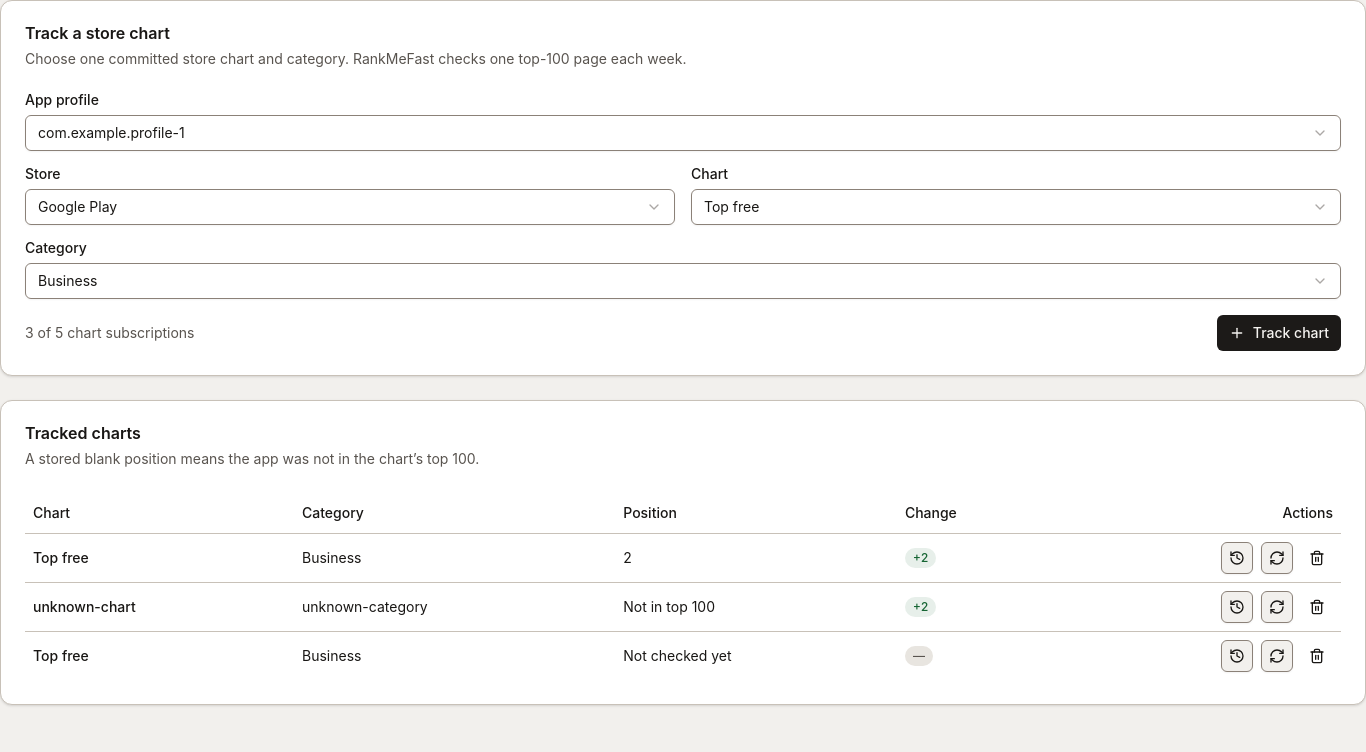
it: App chart tracking panel › previews, confirms, deletes, and closes URL-backed chart actions
Click the 1st button named "Check chart now".
click(1277, 558)  # box top-left (1261, 542), bottom-right (1293, 574)
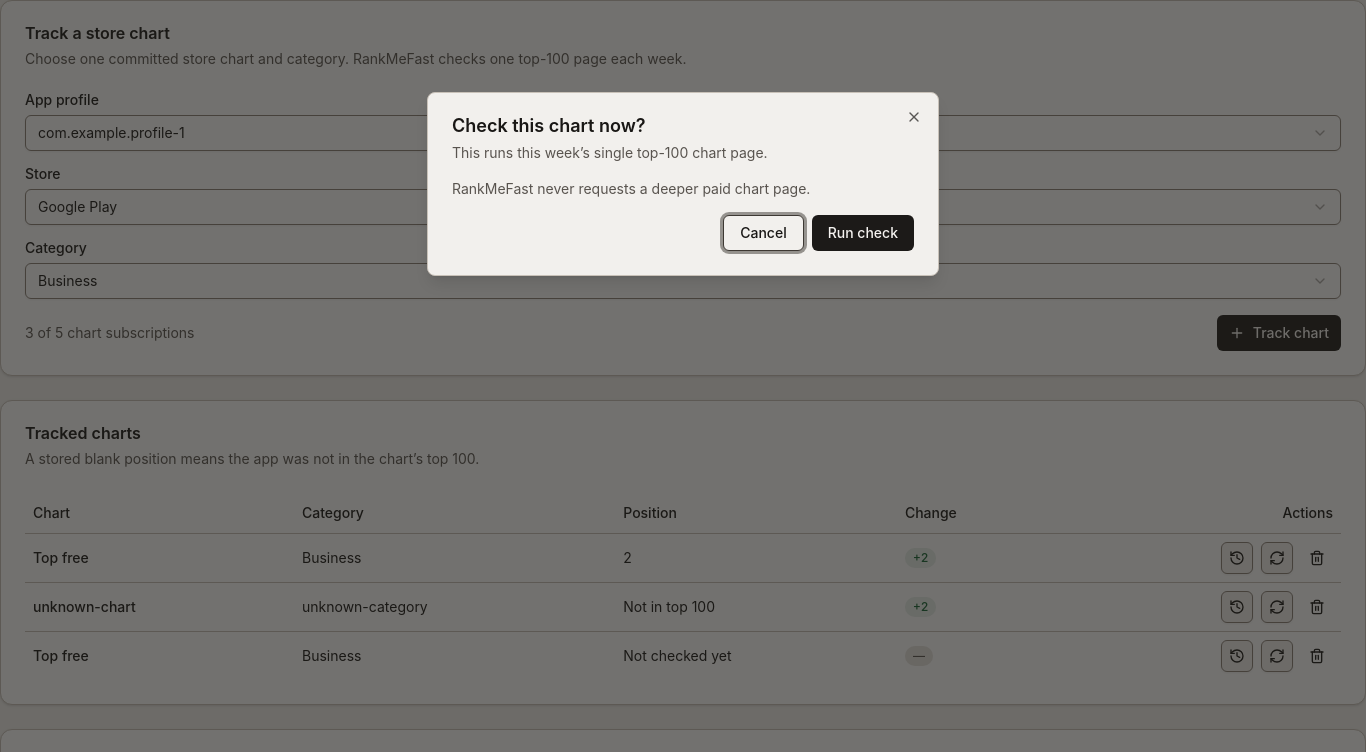
Expected: the heading "Check this chart now?" is shown, top-left (452, 115), bottom-right (646, 136)
Click the button "Run check".
click(863, 233)  # box top-left (812, 215), bottom-right (914, 251)
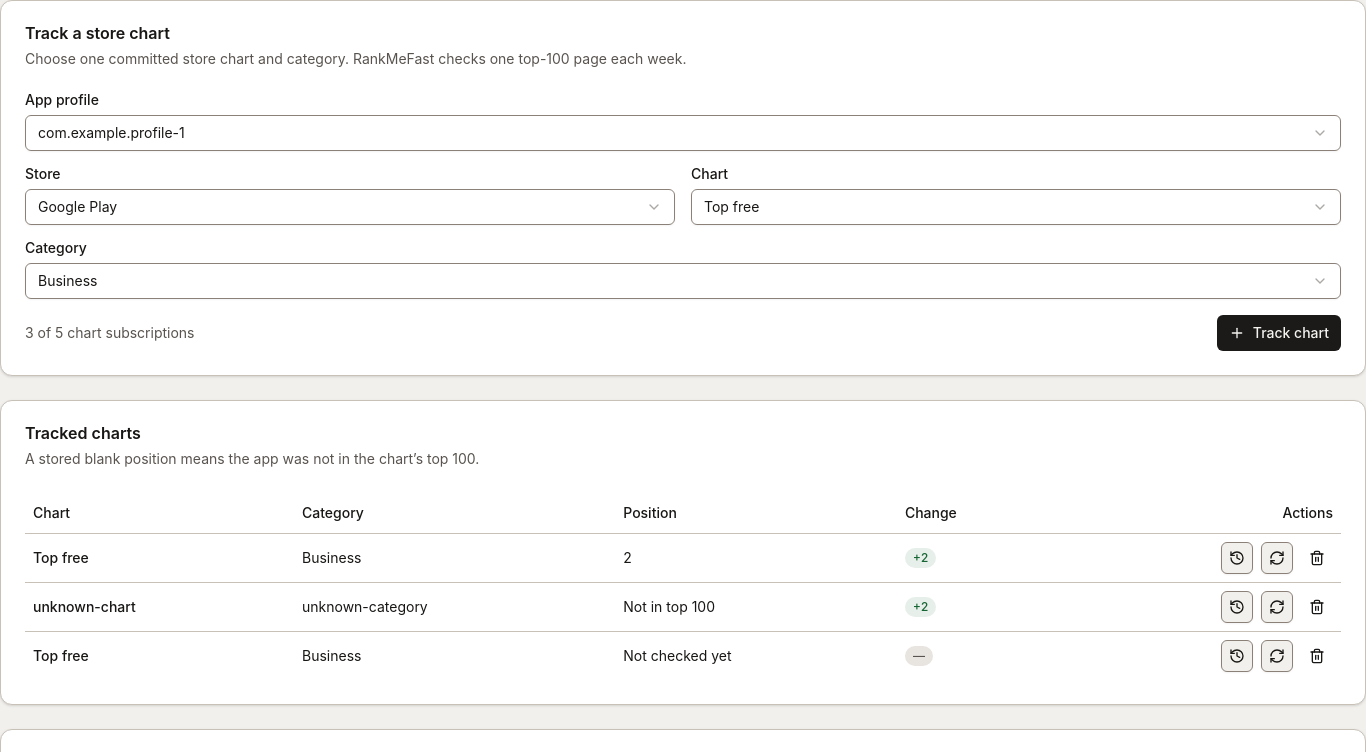
Expected: the heading "Check this chart now?" is gone
Click the 1st button named "Delete chart subscription".
click(1317, 558)  # box top-left (1301, 542), bottom-right (1333, 574)
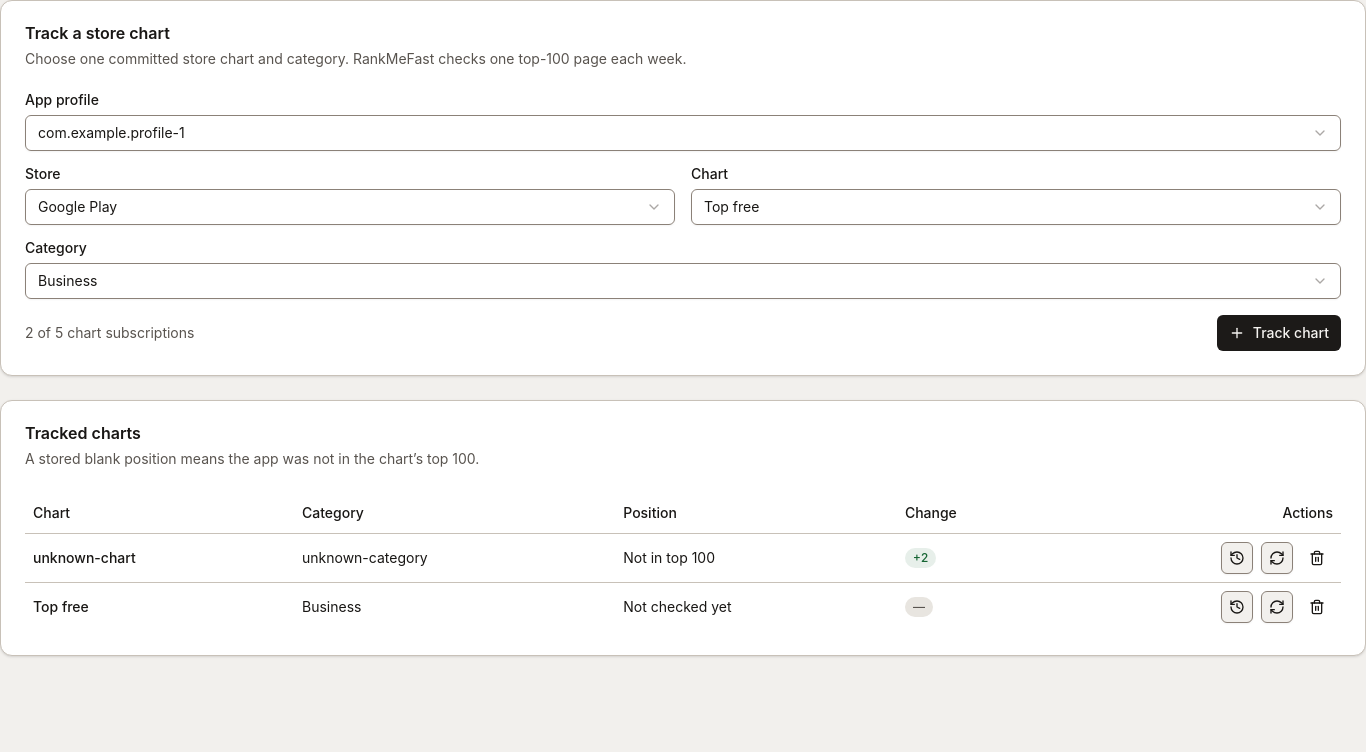
Click the button named "Check chart now" in the row of "unknown-chart".
click(1277, 558)  # box top-left (1261, 542), bottom-right (1293, 574)
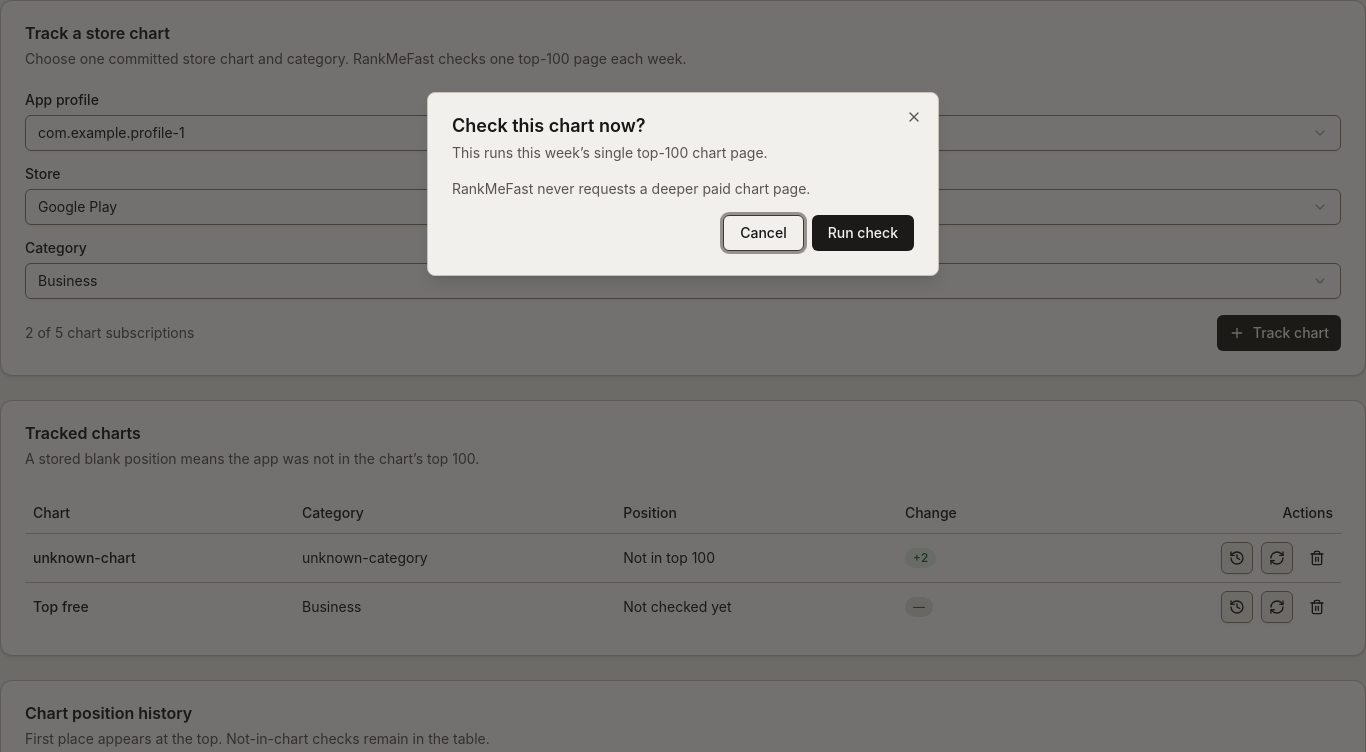
Expected: the heading "Check this chart now?" is shown, top-left (452, 115), bottom-right (646, 136)
Press Escape
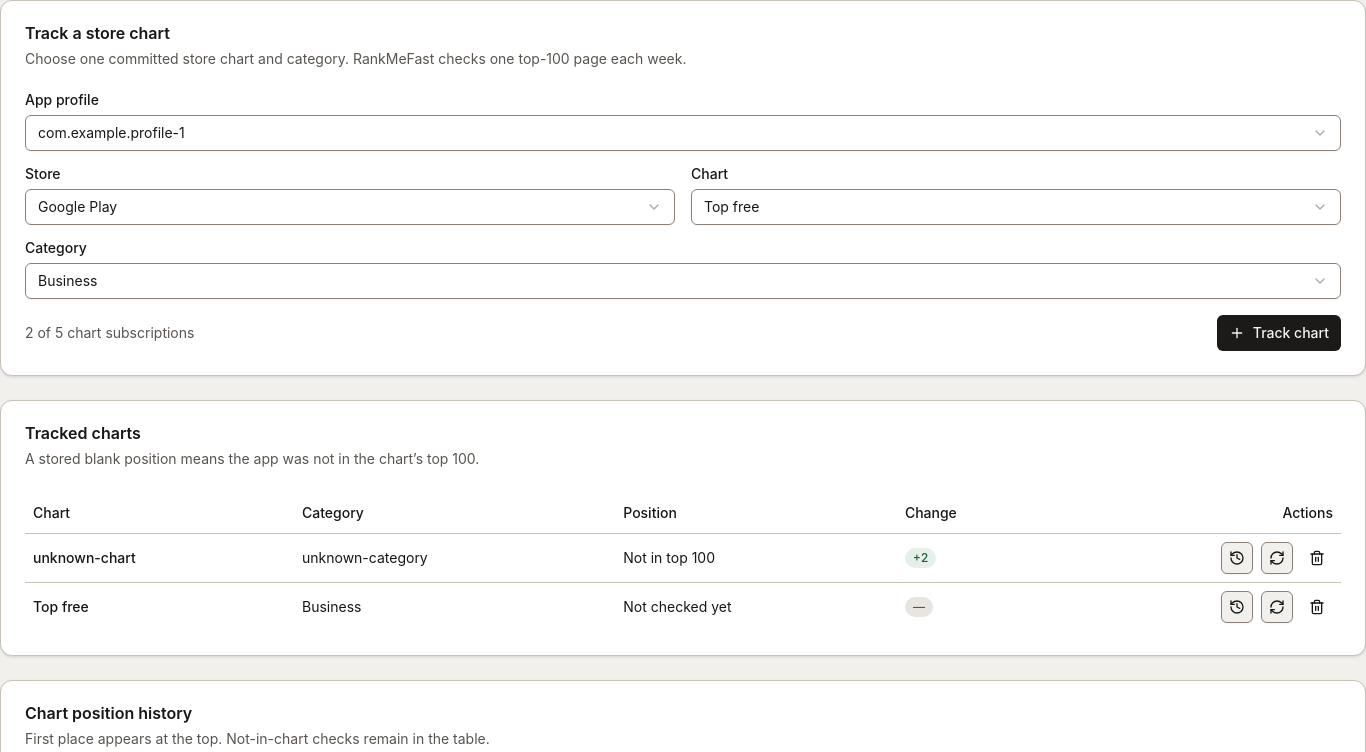
Expected: the heading "Check this chart now?" is gone
